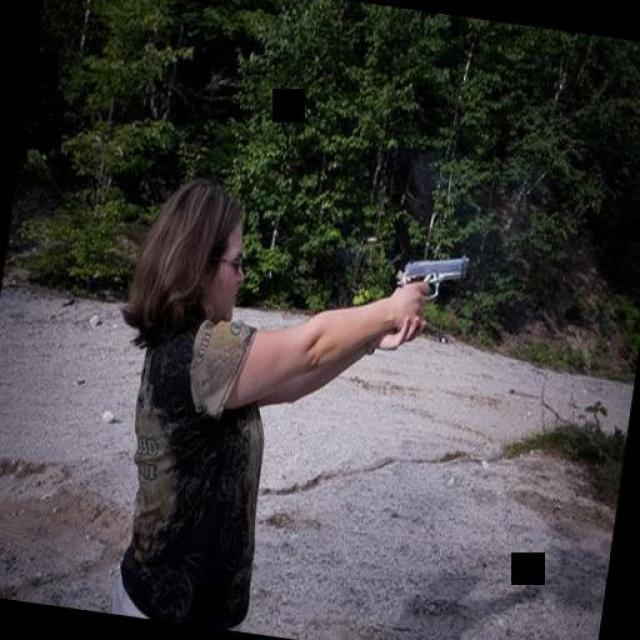gun: (394, 246, 468, 309)
